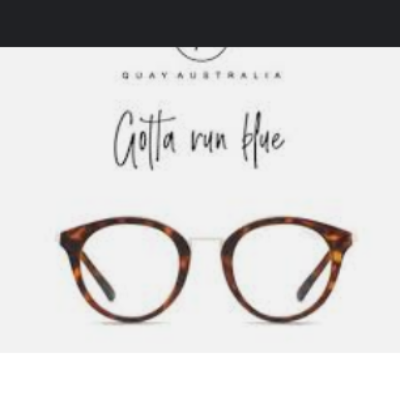glasses: (53, 216, 356, 330)
